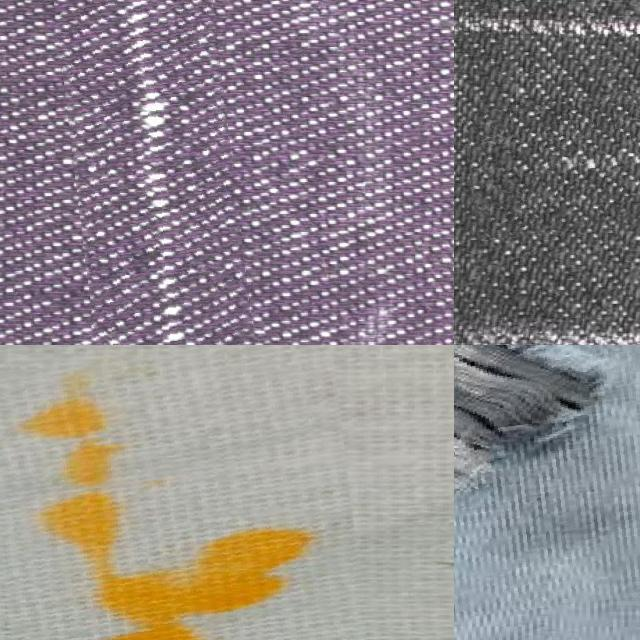Thread_other: (0, 345, 385, 640), (416, 553, 454, 579)
other: (454, 345, 640, 626)
stains: (68, 0, 263, 345), (465, 94, 640, 234)
